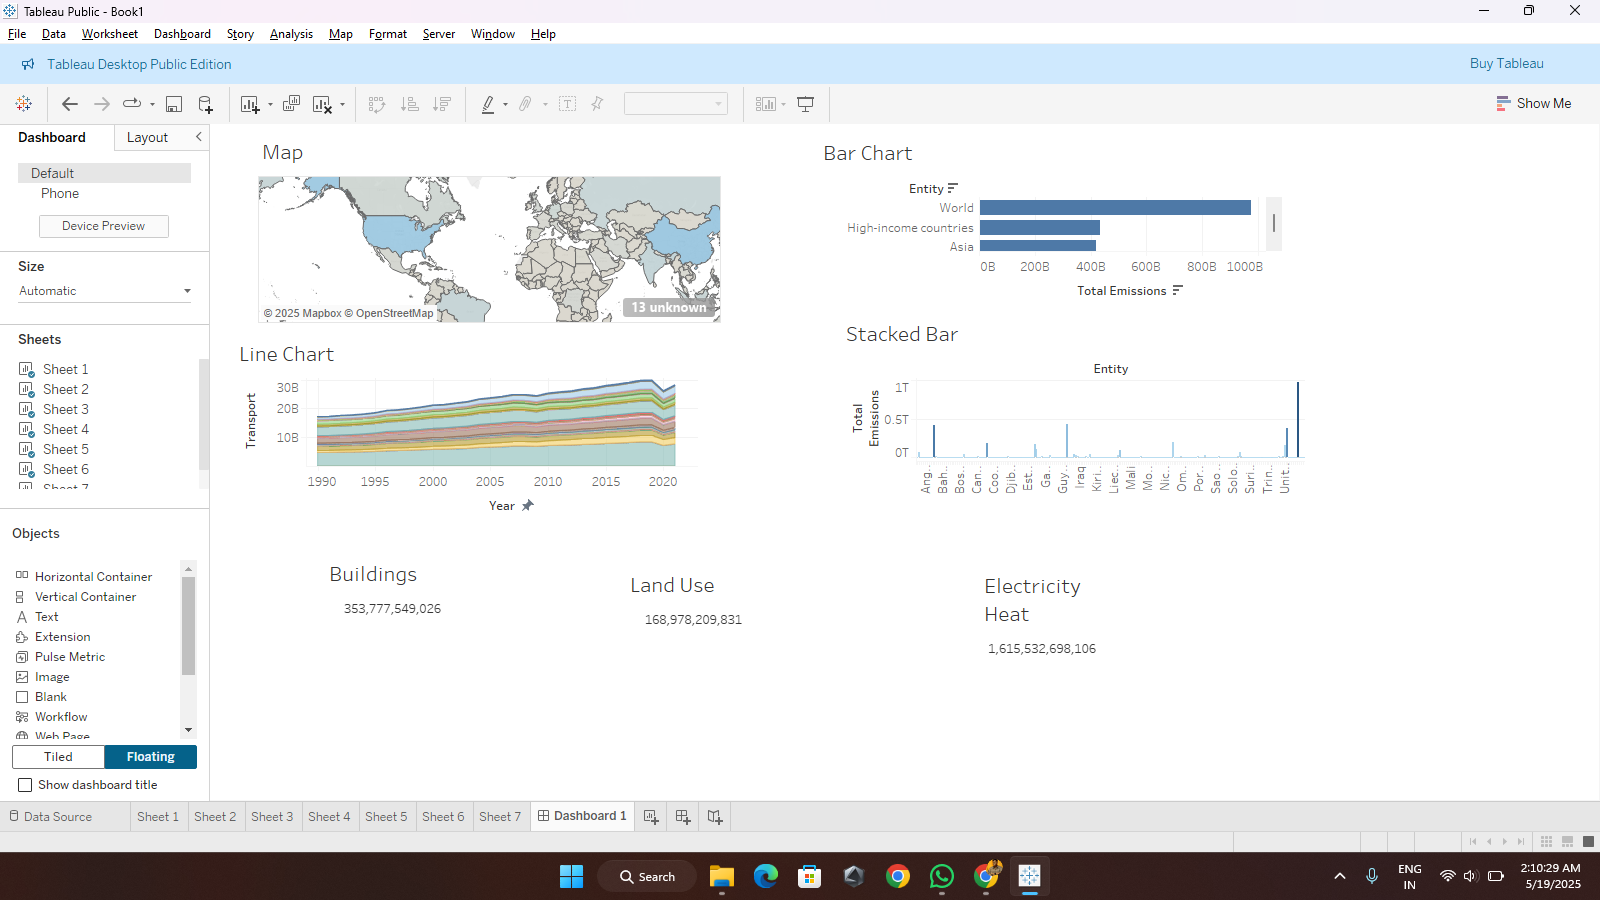

The page's visual inventory and layout, read from the dashboard file:
{"tool":"tableau","page":{"name":"Dashboard 1","canvas":[1000,1000],"units":"permille","ordinal":0},"visuals":[{"type":"worksheet","title":"Sheet 1","mark":"Automatic","box":[34.6,13.3,333.3,281.1]},{"type":"worksheet","title":"Sheet 2","mark":"Automatic","rows":["entity"],"cols":["total_emissions"],"box":[438.4,14.8,333.3,254.4]},{"type":"worksheet","title":"Sheet 4","mark":"Automatic","rows":["total_emissions"],"cols":["entity"],"box":[455,282.5,333.3,267.8]},{"type":"worksheet","title":"Sheet 3","mark":"Area","rows":["transport"],"cols":["year"],"box":[18,312.1,333.3,275.2]},{"type":"worksheet","title":"Sheet 5","mark":"Automatic","box":[82.8,637.6,172.8,267.8]},{"type":"worksheet","title":"Sheet 6","mark":"Automatic","box":[299.5,653.9,230.4,278.1]},{"type":"worksheet","title":"Sheet 7","mark":"Automatic","box":[554.4,655.3,228.9,267.8]}]}

Visuals, with their boxes on the dashboard's canvas, which has no fixed pixel size, in thousandths of its width and height (x1, y1, x2, y2). These are canvas units, not pixel positions in the 1600x900 screenshot, which may show the page scaled, cropped or inside an application window:
"Sheet 1" worksheet: [35,13,368,294]
"Sheet 2" worksheet: [438,15,772,269]
"Sheet 4" worksheet: [455,282,788,550]
"Sheet 3" worksheet (Area marks): [18,312,351,587]
"Sheet 5" worksheet: [83,638,256,905]
"Sheet 6" worksheet: [300,654,530,932]
"Sheet 7" worksheet: [554,655,783,923]
